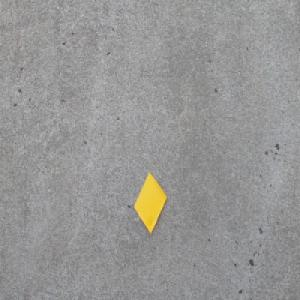PlasticPart: (133, 172, 167, 234)
